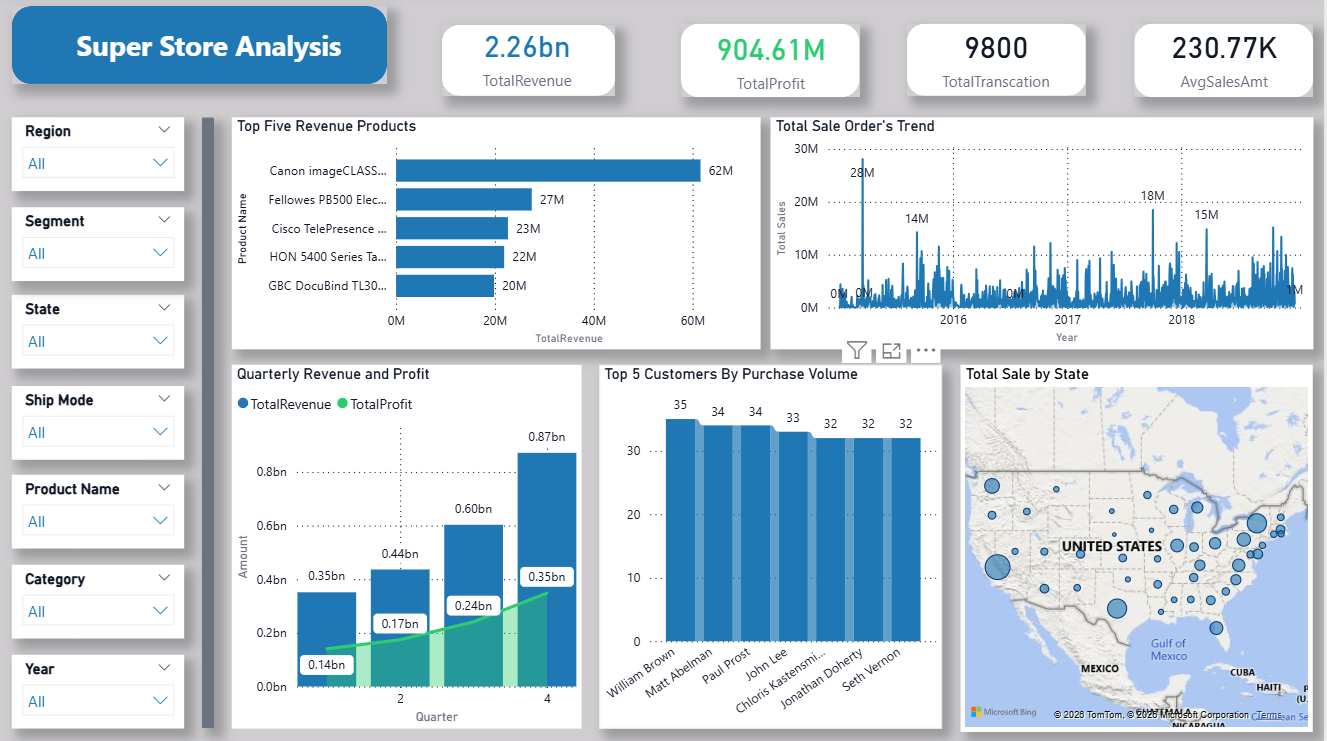

The page's visual inventory and layout, read from the dashboard file:
{"tool":"powerbi","page":{"name":"Super Store Dashboard","canvas":[1280,720],"ordinal":1},"visuals":[{"type":"slicer","fields":{"Values":["DIM_Customer.Region"]},"box":[13.3,117,166.5,71.2],"z":0},{"type":"shape","box":[428.1,27.4,167.4,68.6],"z":1000},{"type":"shape","box":[658.7,26.1,172.9,71.4],"z":2000},{"type":"shape","box":[876.8,26.1,172.9,70],"z":3000},{"type":"shape","box":[1096.4,26.1,172.9,71.4],"z":4000},{"type":"card","fields":{"Values":["Fact_SuperStore.TotalRevenue"]},"box":[430.9,20.6,160.5,72.7],"z":5000},{"type":"card","fields":{"Values":["Fact_SuperStore.TotalProfit"]},"box":[665.5,24.7,160.5,71.4],"z":6000},{"type":"card","fields":{"Values":["Fact_SuperStore.TotalTranscation"]},"box":[893.3,19.2,141.3,76.8],"z":7000},{"type":"card","fields":{"Values":["Fact_SuperStore.AvgSalesAmt"]},"box":[1115.6,17.8,135.8,79.6],"z":8000},{"type":"shape","box":[196.6,117,12.1,589.9],"z":9000},{"type":"slicer","fields":{"Values":["DIM_Customer.State"]},"box":[13.3,288.3,166.5,71.2],"z":10000},{"type":"slicer","fields":{"Values":["DIM_Order.Ship Mode"]},"box":[13.3,376.4,166.5,71.2],"z":11000},{"type":"slicer","fields":{"Values":["DIM_Product.Product Name"]},"box":[13.3,462.1,166.5,71.2],"z":12000},{"type":"slicer","fields":{"Values":["DIM_Customer.Segment"]},"box":[13.3,203.9,166.5,71.2],"z":13000},{"type":"clusteredBarChart","title":"Top Five Revenue Products","fields":{"Y":["Fact_SuperStore.TotalRevenue"],"Category":["DIM_Product.Product Name"]},"box":[225.6,117,510.3,224.4],"z":14000},{"type":"areaChart","title":"Total Sale Order''s Trend","fields":{"Category":["DIM_OrderDate.Order Date.Variation.Date Hierarchy.Year","DIM_OrderDate.Order Date.Variation.Date Hierarchy.Quarter","DIM_OrderDate.Order Date.Variation.Date Hierarchy.Month","DIM_OrderDate.Order Date.Variation.Date Hierarchy.Day"],"Y":["Fact_SuperStore.TotalRevenue"]},"box":[745.1,116.6,524.2,223.7],"z":15000},{"type":"map","title":"Total Sale by State","fields":{"Size":["Fact_SuperStore.TotalRevenue"],"Category":["DIM_Customer.State"]},"box":[929,355.9,340.2,354.7],"z":16000},{"type":"lineClusteredColumnComboChart","title":"Quarterly Revenue and Profit ","fields":{"Y":["Fact_SuperStore.TotalRevenue"],"Y2":["Fact_SuperStore.TotalProfit"],"Category":["DIM_OrderDate.Quarter"]},"box":[225.6,355.9,337.8,351.1],"z":17000},{"type":"columnChart","title":" Top 5 Customers By Purchase Volume","fields":{"Category":["DIM_Customer.Customer Name"],"Y":["Fact_SuperStore.TotalTranscation"]},"box":[580.3,355.9,330.6,351.1],"z":18000},{"type":"shape","box":[13.7,9.6,362.3,75.5],"z":19000},{"type":"textbox","box":[56.3,24.7,293.7,64.5],"z":20000},{"type":"slicer","fields":{"Values":["DIM_Product.Category"]},"box":[13.3,548.9,166.5,71.2],"z":21000},{"type":"slicer","fields":{"Values":["DIM_OrderDate.Year"]},"box":[13.3,635.8,166.5,71.2],"z":22000}]}

Visuals, with their boxes in screenshot pixels (x1, y1, x2, y2), scaled from the page's 1280x720 canvas onto the 1327x741 screenshot:
slicer - DIM_Customer.Region: box(14, 120, 186, 194)
shape: box(444, 28, 617, 99)
shape: box(683, 27, 862, 100)
shape: box(909, 27, 1088, 99)
shape: box(1137, 27, 1316, 100)
card - Fact_SuperStore.TotalRevenue: box(447, 21, 613, 96)
card - Fact_SuperStore.TotalProfit: box(690, 25, 856, 99)
card - Fact_SuperStore.TotalTranscation: box(926, 20, 1073, 99)
card - Fact_SuperStore.AvgSalesAmt: box(1157, 18, 1297, 100)
shape: box(204, 120, 216, 728)
slicer - DIM_Customer.State: box(14, 297, 186, 370)
slicer - DIM_Order.Ship Mode: box(14, 387, 186, 461)
slicer - DIM_Product.Product Name: box(14, 476, 186, 549)
slicer - DIM_Customer.Segment: box(14, 210, 186, 283)
"Top Five Revenue Products" clusteredBarChart: box(234, 120, 763, 351)
"Total Sale Order''s Trend" areaChart: box(772, 120, 1316, 350)
"Total Sale by State" map: box(963, 366, 1316, 731)
"Quarterly Revenue and Profit " lineClusteredColumnComboChart: box(234, 366, 584, 728)
" Top 5 Customers By Purchase Volume" columnChart: box(602, 366, 944, 728)
shape: box(14, 10, 390, 88)
textbox: box(58, 25, 363, 92)
slicer - DIM_Product.Category: box(14, 565, 186, 638)
slicer - DIM_OrderDate.Year: box(14, 654, 186, 728)
